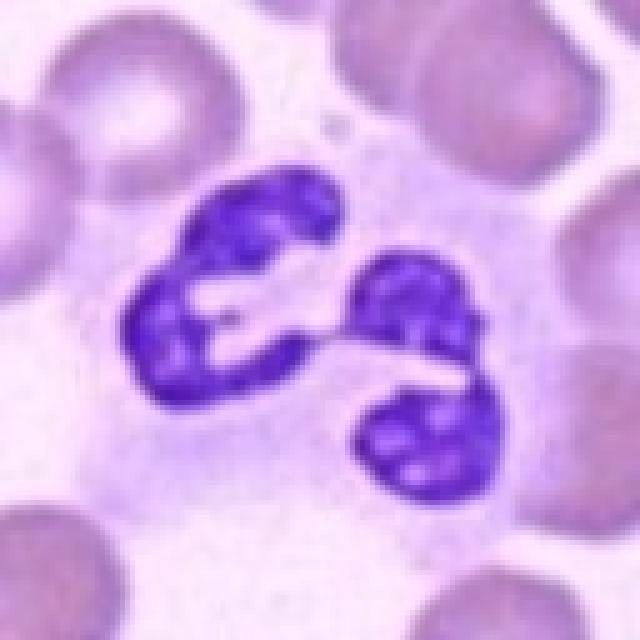neutro: (99, 116, 528, 516)
